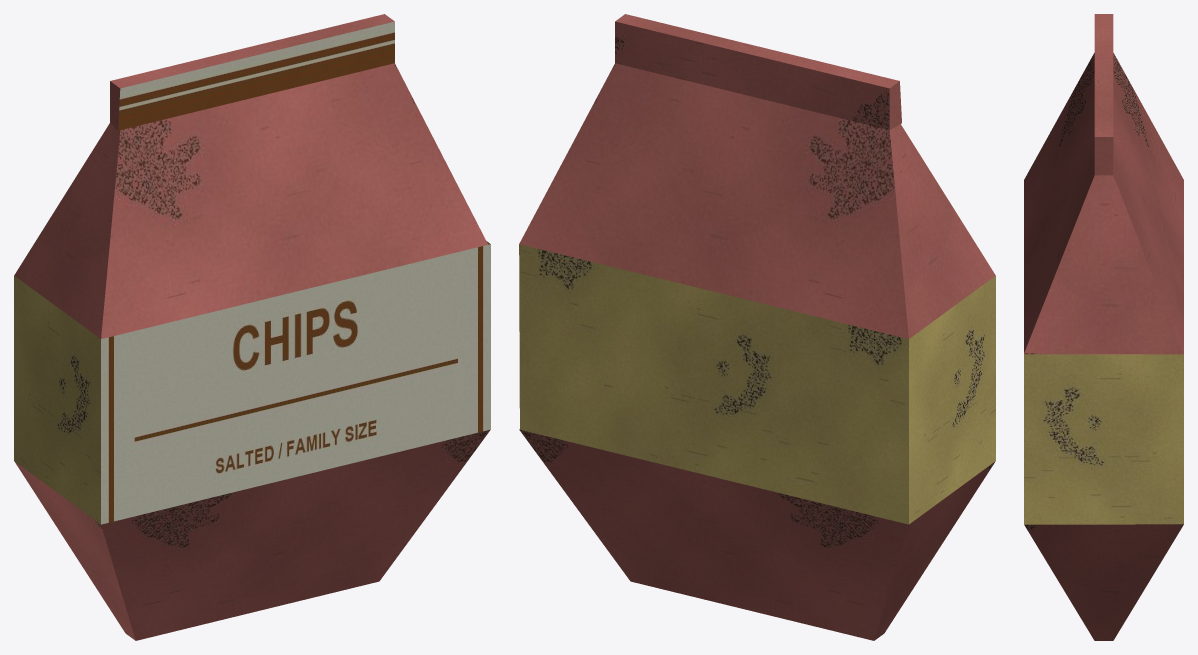
The model's file is chips_v4.glb.
The picture shows the model from 3 angles, left to right: view 1: azimuth 30°, elevation 25°; view 2: azimuth 150°, elevation 25°; view 3: azimuth 270°, elevation 25°; orthographic projection. The views are drawn at different scales.
Visible parts, largest first — view 1: Variant_chips_4; view 2: Variant_chips_4; view 3: Variant_chips_4.
Boxes of the visible parts, x1,y1,x2,y2 form: Variant_chips_4: [14, 14, 490, 640]; Variant_chips_4: [519, 14, 995, 640]; Variant_chips_4: [1024, 14, 1183, 640].
Size of the model in its own units: 0.176 by 0.24 by 0.068.
Materials: 3 (3 with a texture image).
